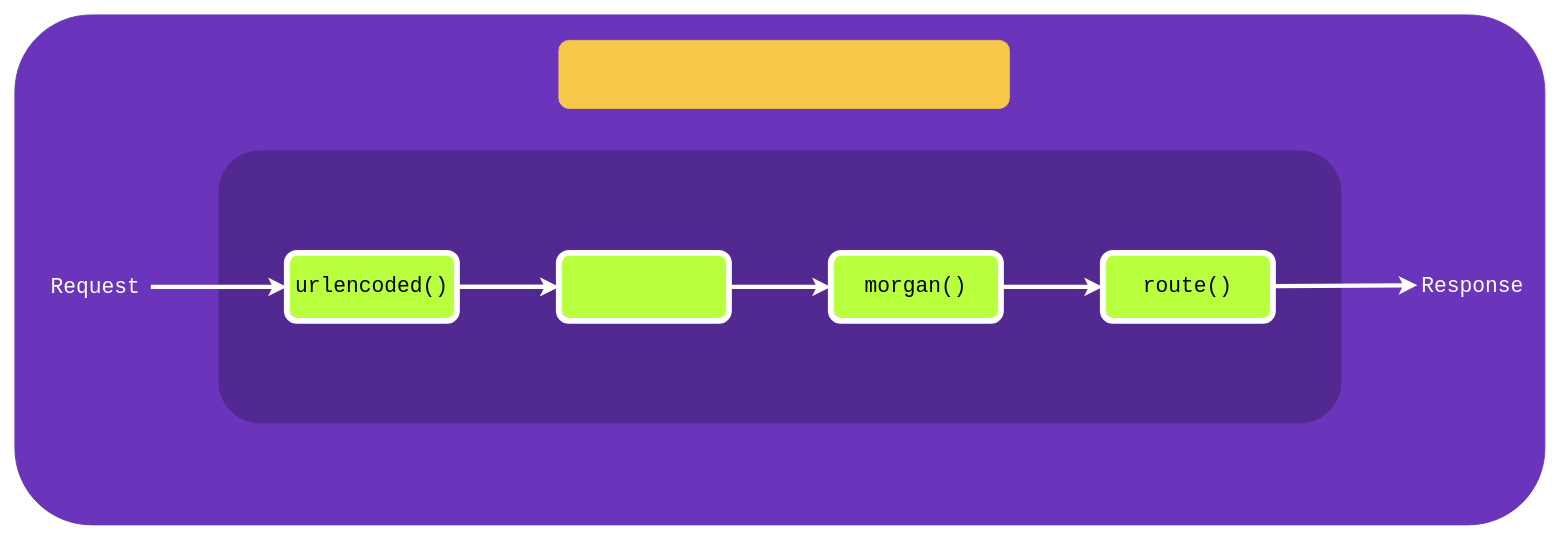
This 1560x540 diagram has some shape labels left out. The centre of each missing label's shape, as x and y in pixels:
json(): point (643, 286)
REQUEST PROCESSING PIPELINE: point (783, 74)
